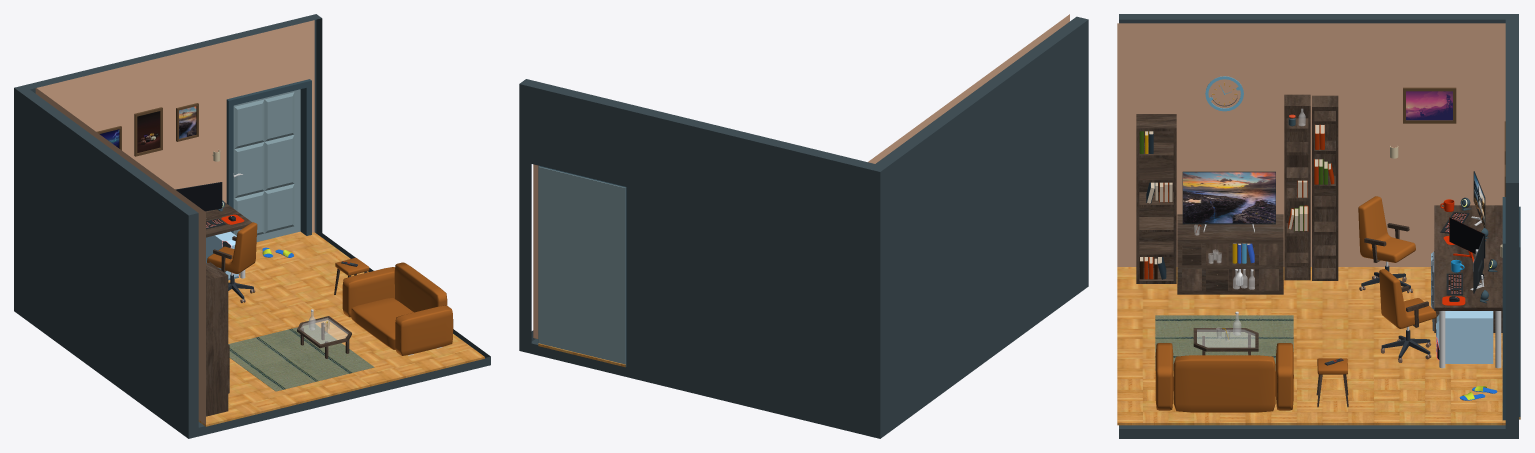
The model's file is isometric_room_house_game-ready_low_poly4.glb.
3 views of the same model, side by side, from view 1: azimuth 30°, elevation 25°; view 2: azimuth 150°, elevation 25°; view 3: azimuth 270°, elevation 25° (orthographic). The views are drawn at different scales.
Parts seen in each view (by area): view 1: Plane_84, Plane.013_88, Plane.001_85, Cube.012_19, Plane.006_17, Plane.004_108, Plane.012_87, Cube_96, Plane.015_90, Cube.005_5, Plane.014_89, Plane.008_56 (+3 smaller); view 2: Plane_84, Plane.001_85; view 3: Plane_84, Plane.013_88, Cube.012_19, Plane.005_109, Plane.004_108, Plane.008_56, Cube.003_1, Plane.006_17, Plane.003_107, Plane.002_106, Cube.007_8, Cube.035_58 (+17 smaller).
Boxes of the visible parts, x1,y1,x2,y2 form: Plane_84: [14, 14, 490, 438]; Plane.013_88: [198, 231, 484, 426]; Plane.001_85: [233, 89, 300, 241]; Cube.012_19: [342, 262, 453, 355]; Plane.006_17: [228, 324, 374, 391]; Plane.004_108: [206, 262, 228, 416]; Plane.012_87: [226, 79, 311, 235]; Cube_96: [207, 222, 257, 273]; Plane.015_90: [134, 107, 162, 156]; Cube.005_5: [175, 182, 222, 211]; Plane.014_89: [176, 103, 198, 141]; Plane.008_56: [205, 202, 251, 237]; Plane_84: [519, 14, 1088, 438]; Plane.001_85: [538, 166, 625, 364]; Plane_84: [1117, 14, 1520, 438]; Plane.013_88: [1117, 267, 1520, 425]; Cube.012_19: [1155, 343, 1293, 412]; Plane.005_109: [1177, 214, 1283, 294]; Plane.004_108: [1136, 114, 1176, 283]; Plane.008_56: [1431, 205, 1502, 332]; Cube.003_1: [1182, 171, 1275, 224]; Plane.006_17: [1155, 315, 1293, 370]; Plane.003_107: [1284, 94, 1310, 280]; Plane.002_106: [1312, 95, 1338, 280]; Cube.007_8: [1436, 311, 1493, 363]; Cube.035_58: [1358, 196, 1415, 262].
Bounding box in the file's own units: 74.98 × 52.97 × 75.67.
Materials: 46 (9 with a texture image).
